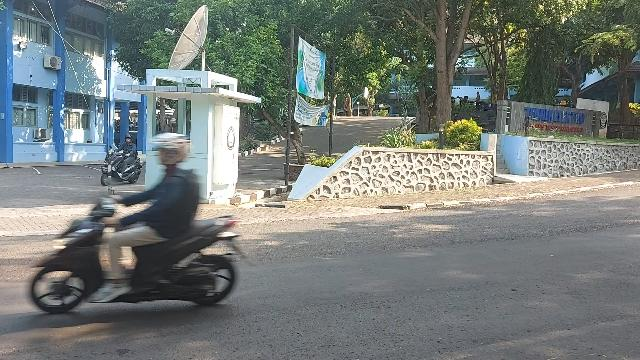helm: (149, 133, 189, 166), (127, 135, 134, 144)
motor: (32, 187, 256, 316), (103, 147, 144, 187)
